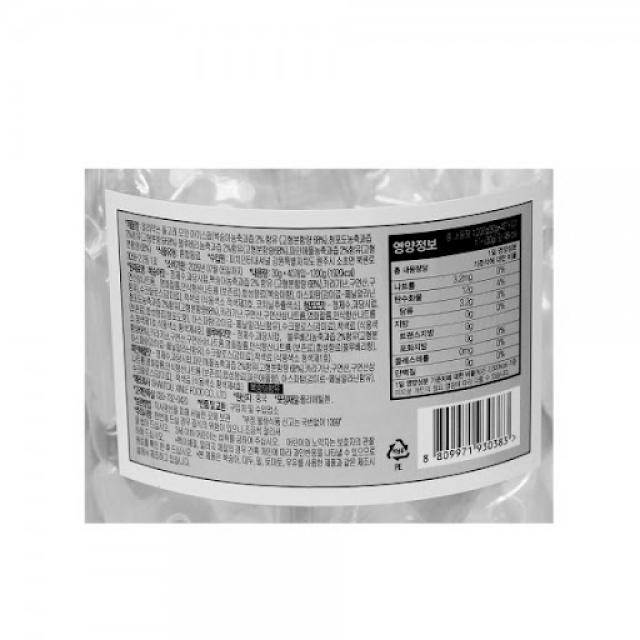Nutrition Label: (380, 223, 546, 400)
